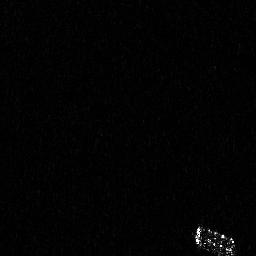ship: (190, 221, 237, 256)
